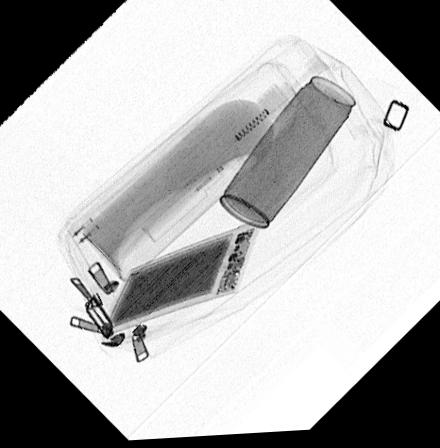Powerbank: (103, 221, 262, 339)
